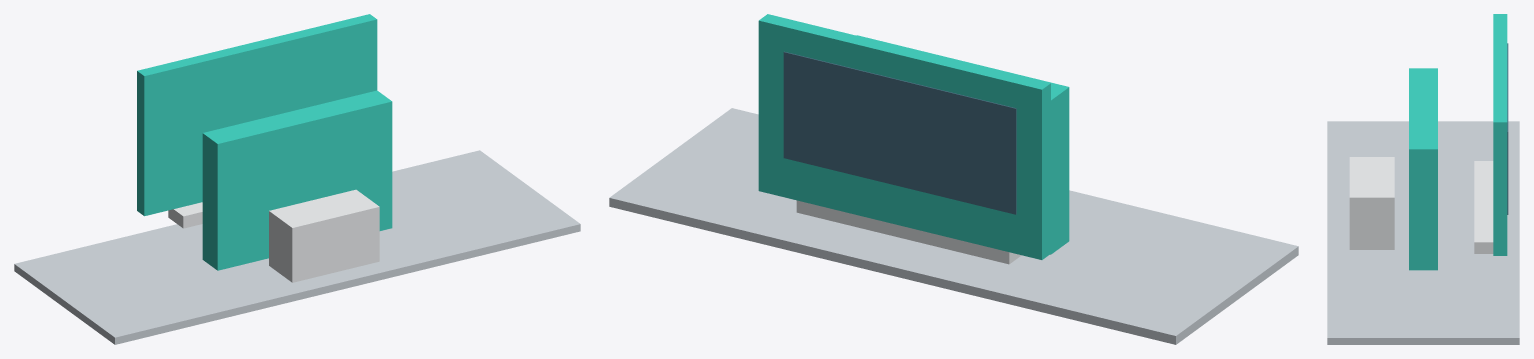
3 renders of one model, left to right at view 1: azimuth 30°, elevation 25°; view 2: azimuth 150°, elevation 25°; view 3: azimuth 270°, elevation 25°, orthographic. The views are drawn at different scales.
Parts seen in each view (by area): view 1: Exhibition Booth Concept; view 2: Exhibition Booth Concept; view 3: Exhibition Booth Concept.
Part boxes in pixels (box(x1,y1,x2,y2)): Exhibition Booth Concept: box(14, 14, 580, 344); Exhibition Booth Concept: box(609, 14, 1298, 344); Exhibition Booth Concept: box(1327, 14, 1519, 344).
Size of the model in its own units: 8 by 2.9 by 3.
